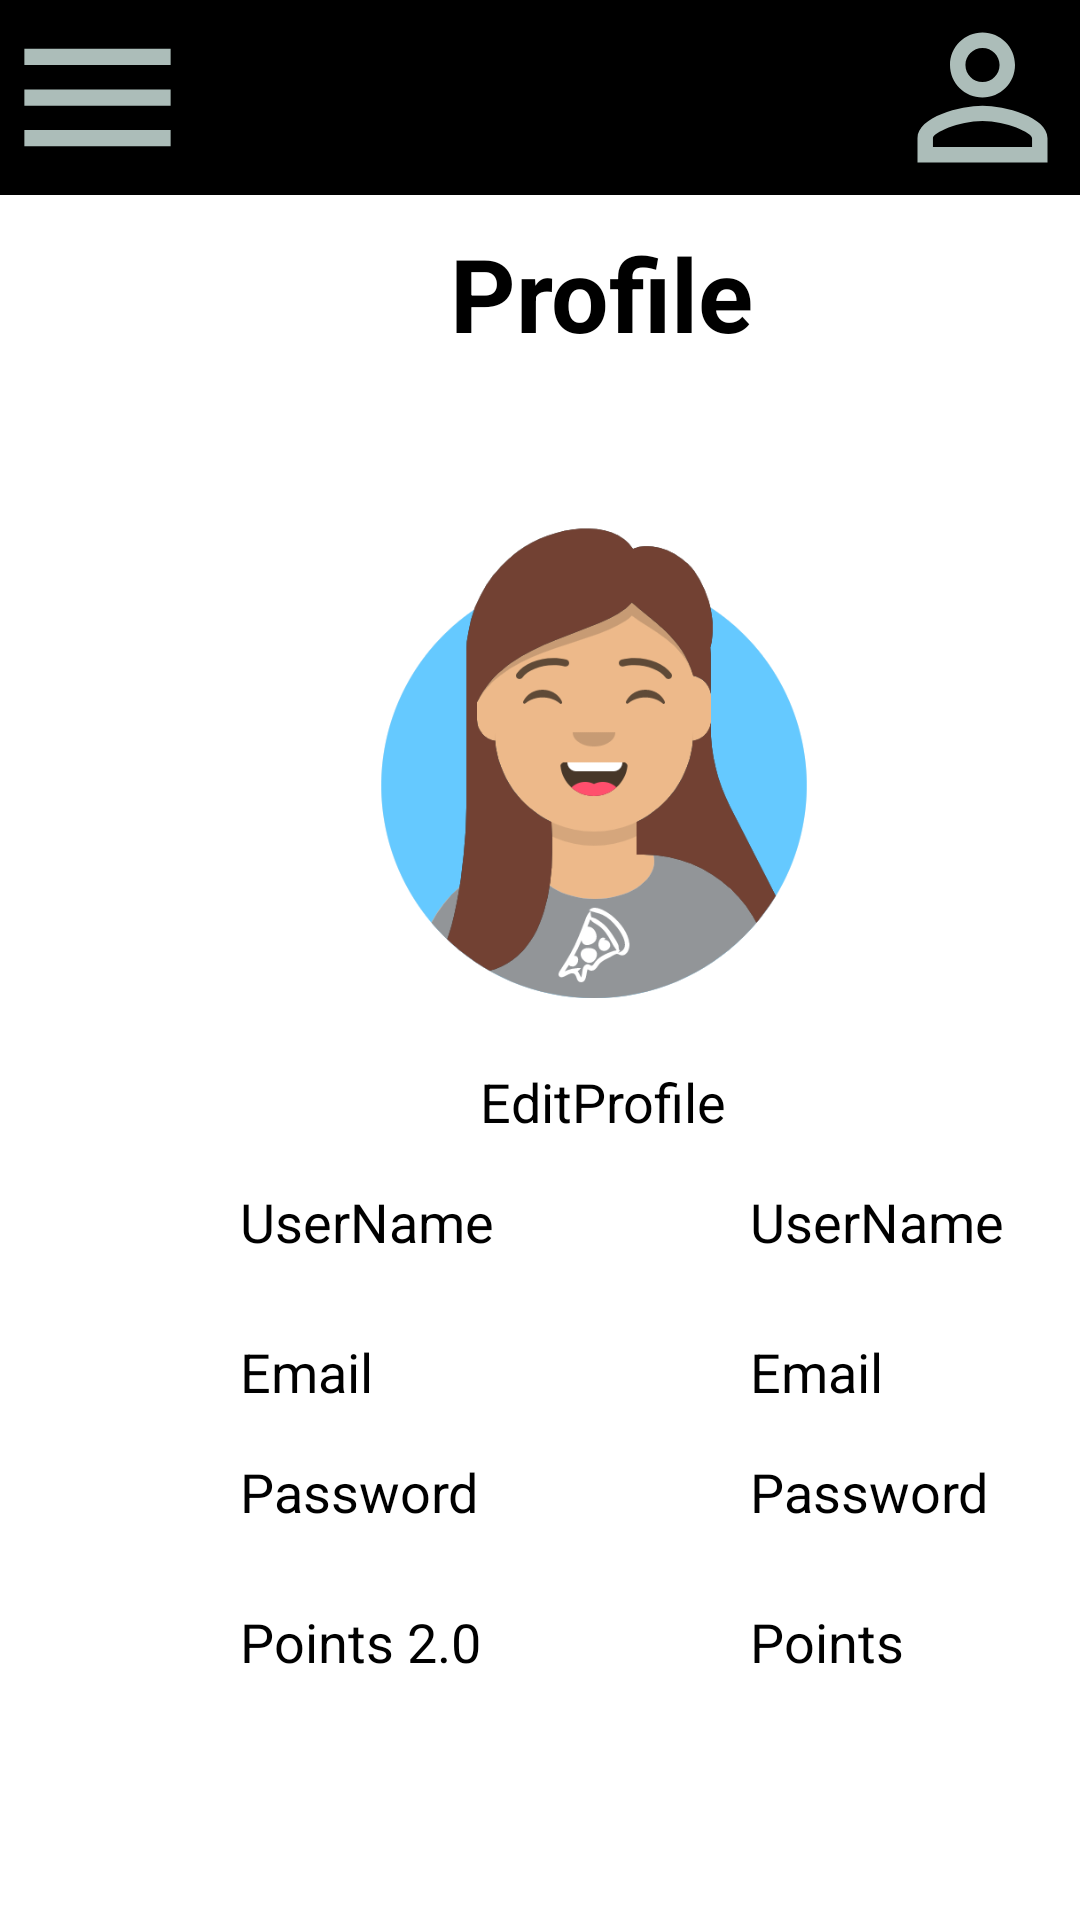

Icon bounding boxes for this 1080px×1920px phone screenshot, format [x1, y1, x2, y2]:
menu: [24, 48, 171, 147]
person: [917, 32, 1048, 163]
